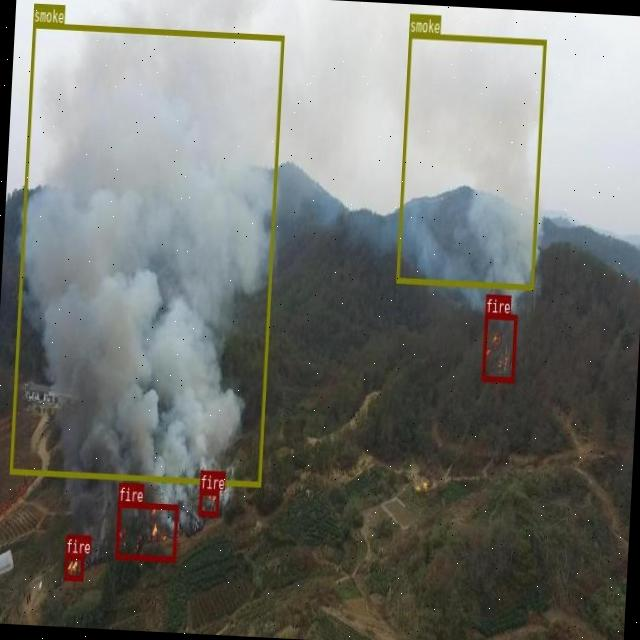fire: (115, 500, 178, 560), (482, 314, 518, 382), (198, 489, 219, 516), (64, 553, 84, 580)
smoke: (8, 22, 284, 486), (396, 32, 547, 289)
